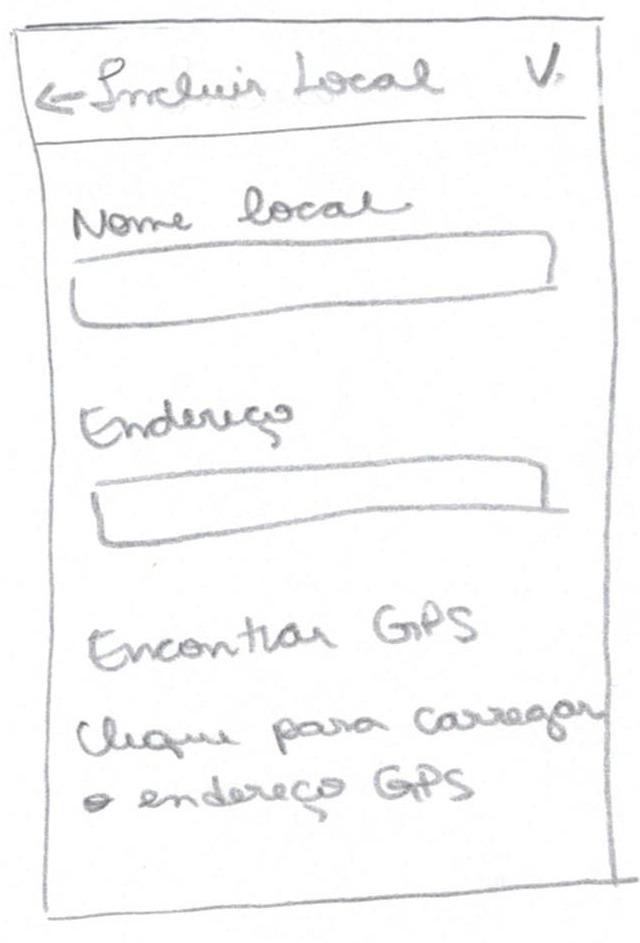Button: (31, 81, 86, 116), (524, 40, 561, 89)
CheckBox: (69, 231, 560, 327), (90, 456, 547, 549)
Label: (73, 699, 604, 819), (86, 598, 480, 674), (90, 53, 445, 114), (70, 188, 416, 241), (79, 397, 295, 450)
Screen: (11, 16, 616, 921)
